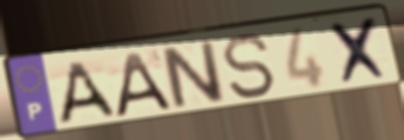4: (284, 23, 332, 92)
A: (112, 49, 175, 120), (56, 58, 119, 127)
N: (156, 39, 229, 111)
S: (218, 32, 279, 101)
X: (326, 13, 394, 88)
